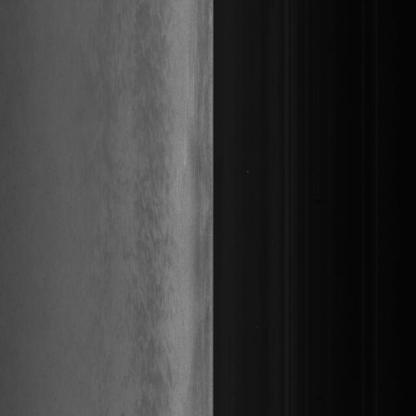silk_spot: (124, 85, 183, 379)
